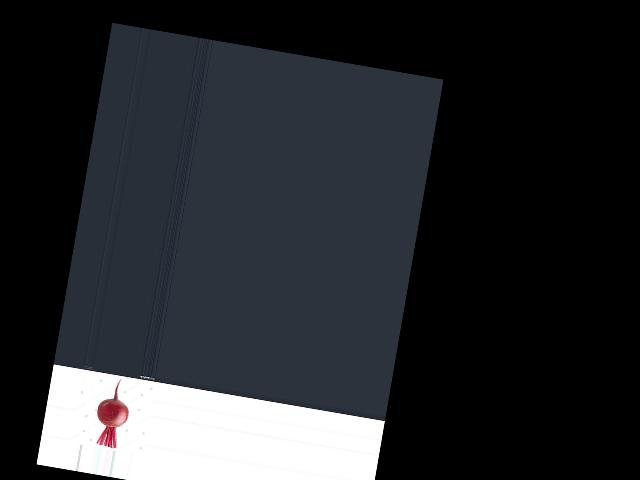beet: (91, 374, 133, 449)
